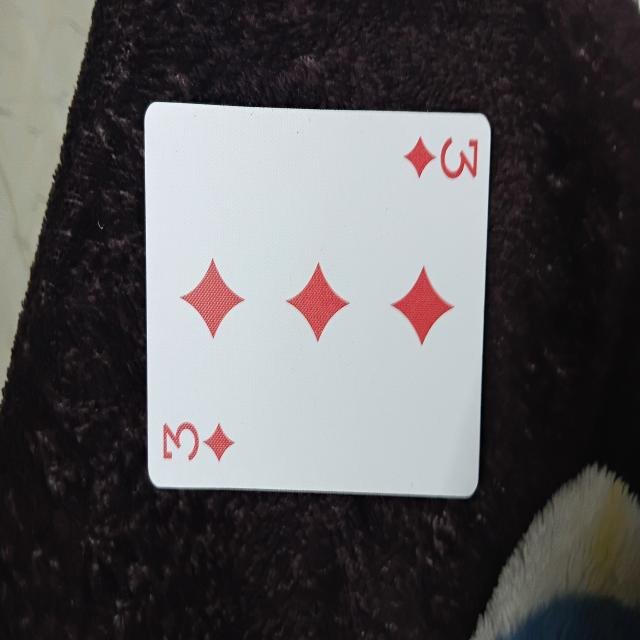3D: (144, 100, 480, 497)
